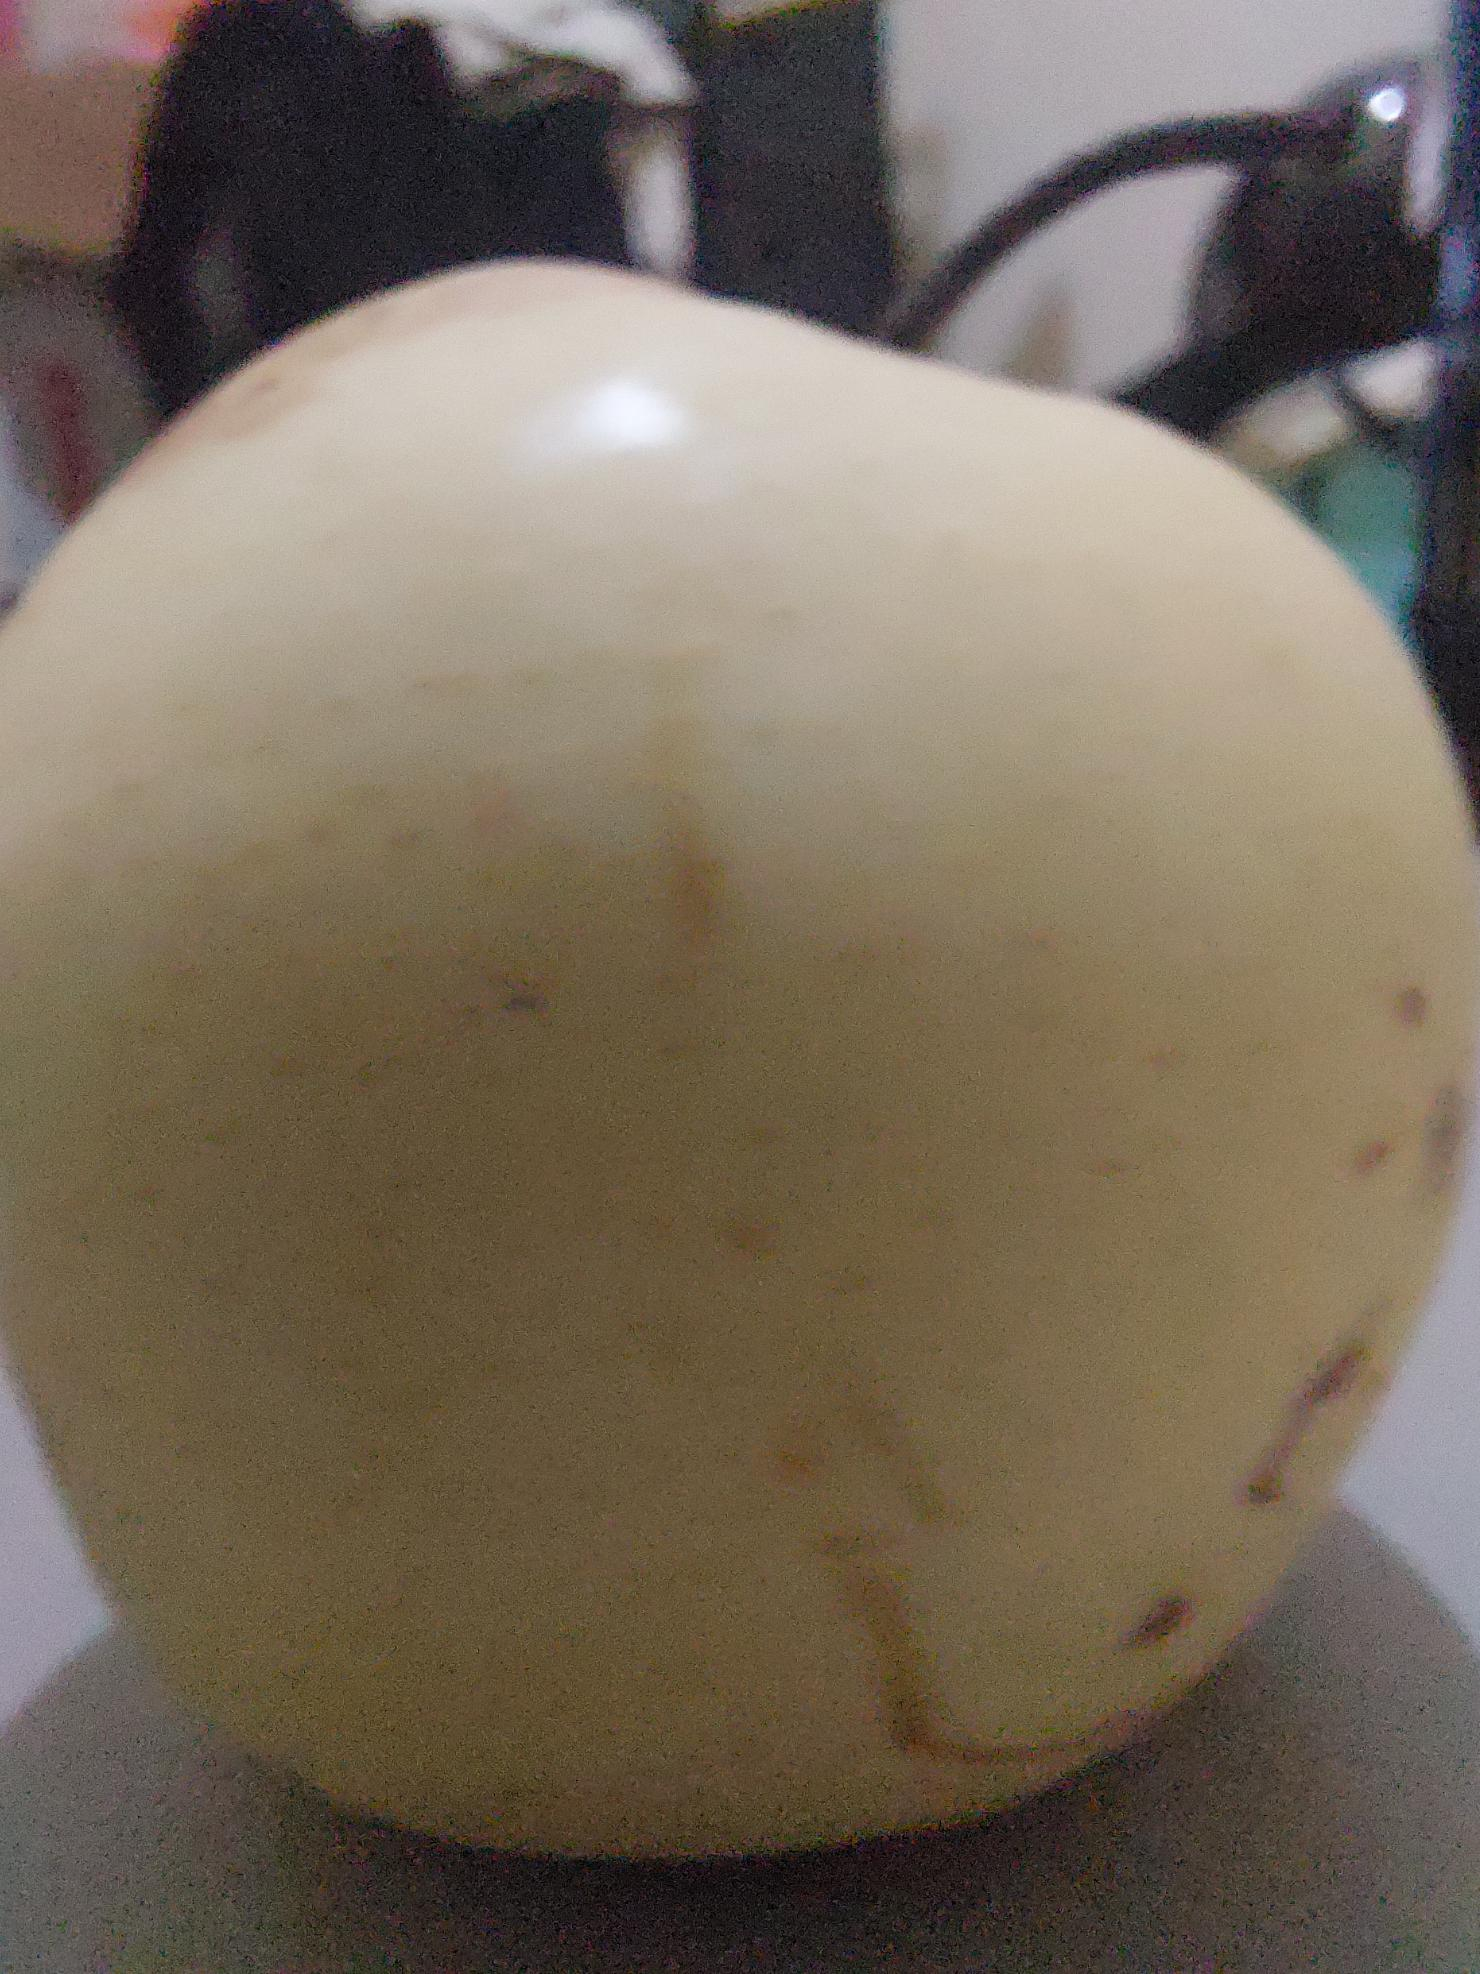Bad Pear: (0, 241, 1463, 1884)
